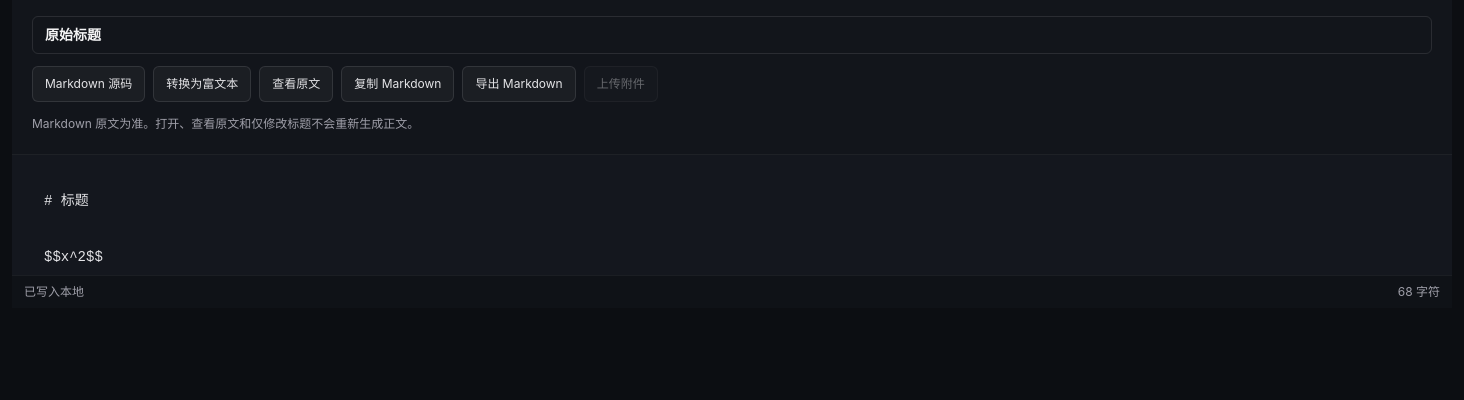
Test: markdown_preservation component source truth › retains edited content and export actions after local failure
Replace the text in the text box named "Markdown 正文" with "仍在编辑区" at (732, 214), box [12, 154, 1452, 274]
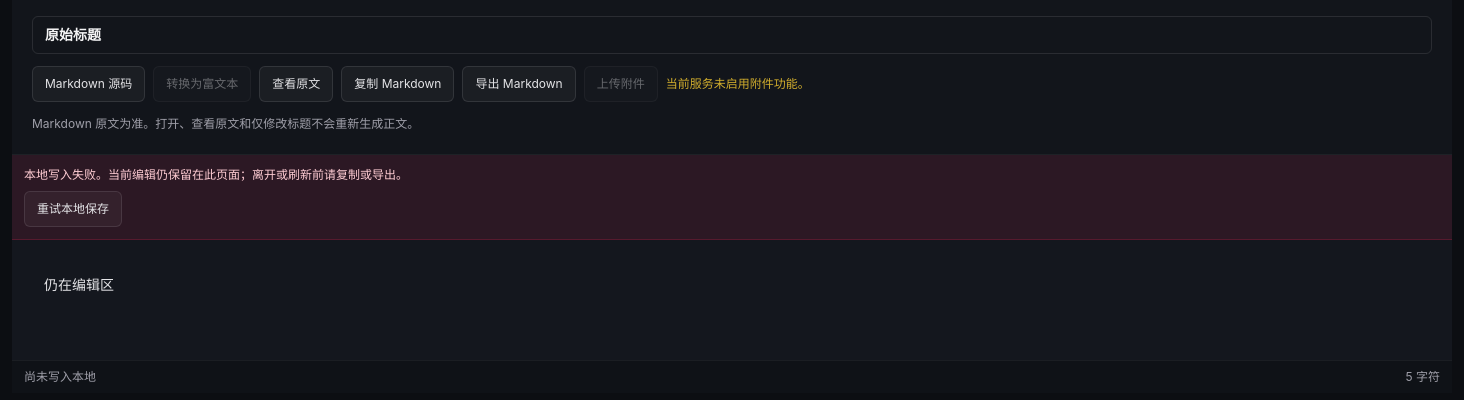
Expected: the button "复制 Markdown" is shown, [341, 66, 454, 102]
Expected: the message with test id "local-save-status" reads "尚未写入本地", [24, 368, 96, 384]
